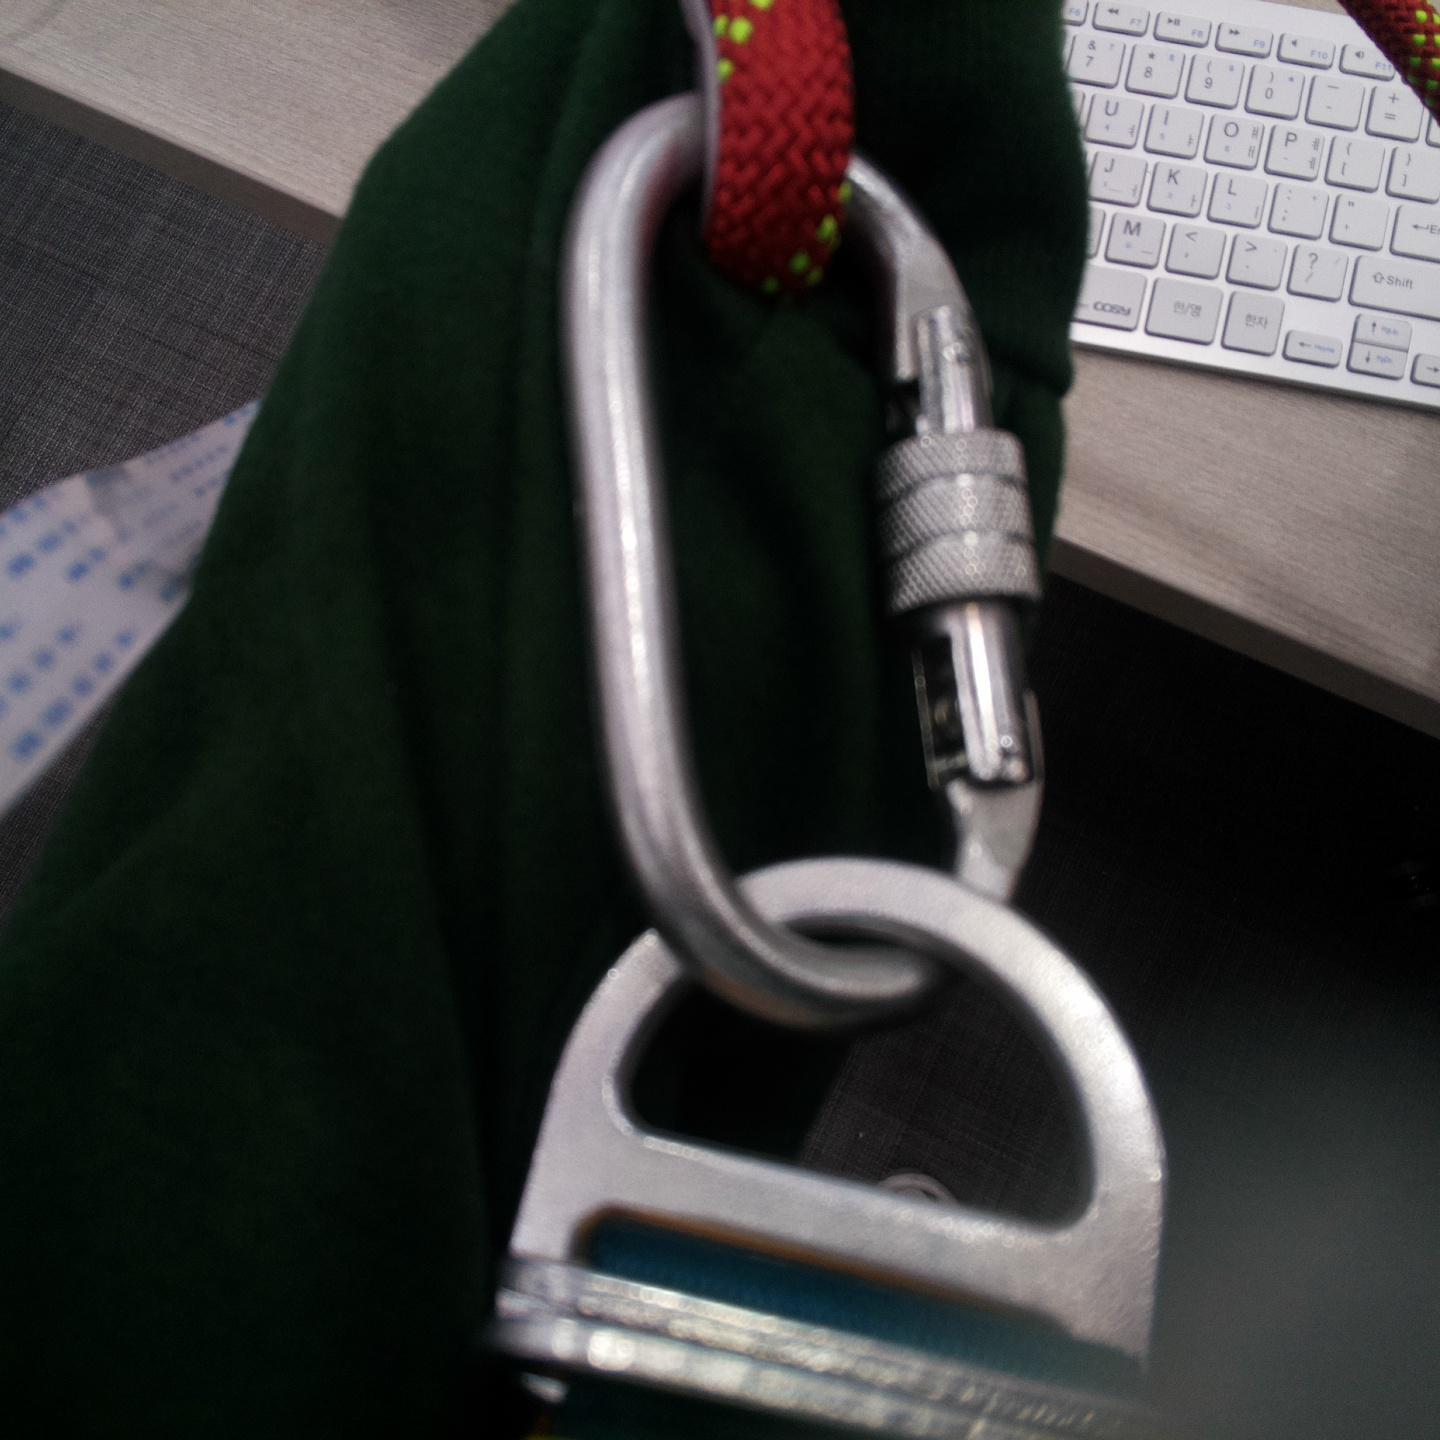SUCCESS: (554, 276, 1055, 855)
